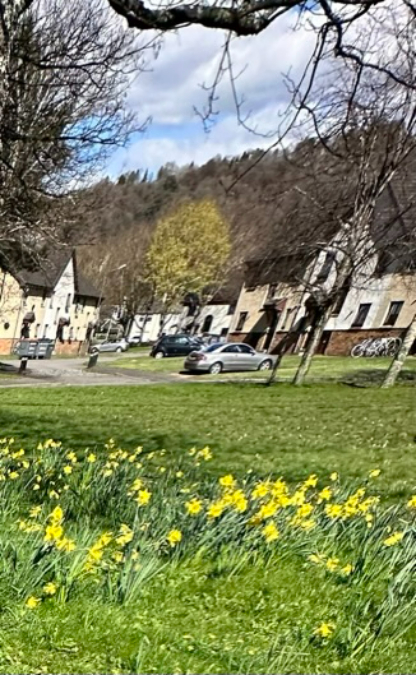car: (187, 341, 282, 378), (149, 330, 214, 362), (87, 336, 133, 359)
tree: (281, 114, 403, 386), (150, 200, 232, 324)
